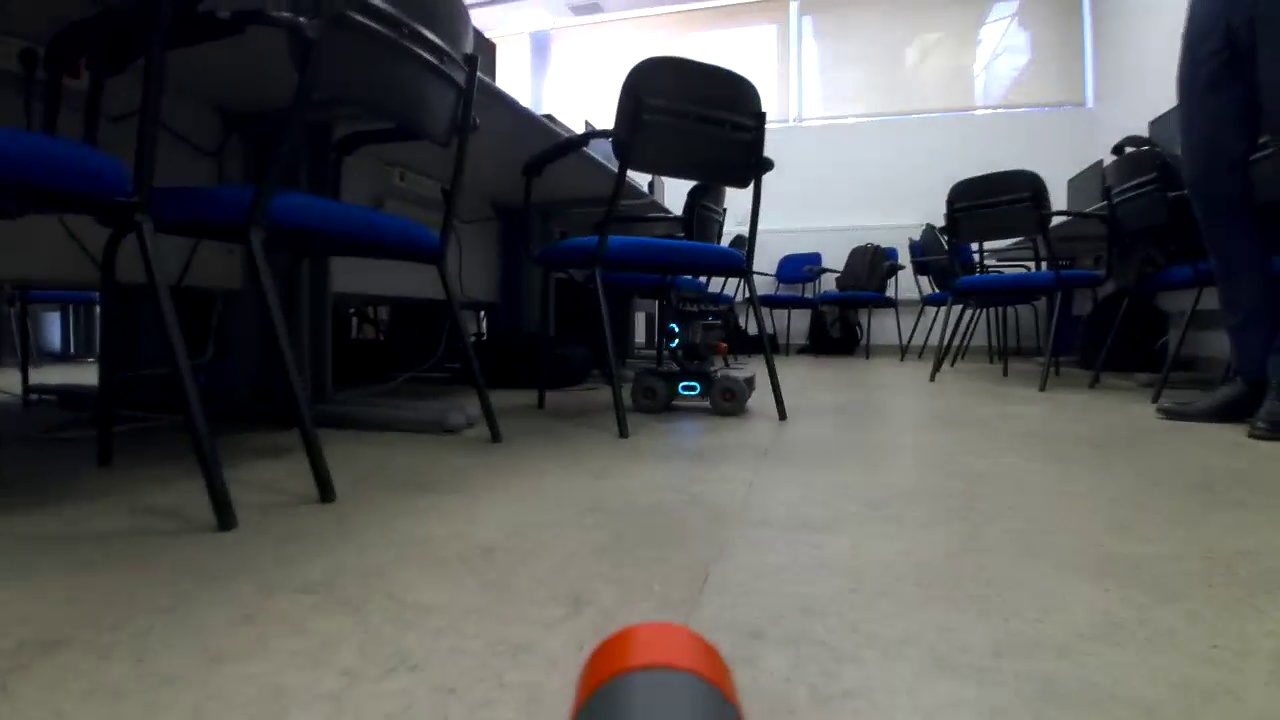robot: (630, 300, 762, 420)
